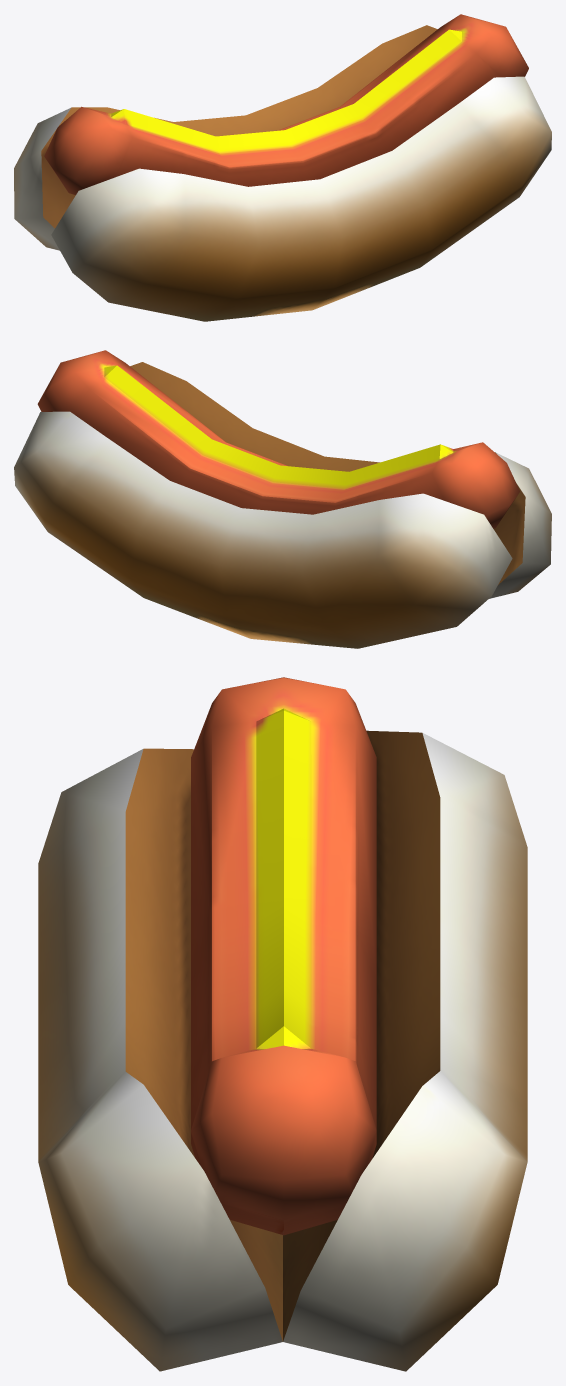
The model's file is hotdog.fbx.
3 renders of one model, top to bottom at view 1: azimuth 30°, elevation 25°; view 2: azimuth 150°, elevation 25°; view 3: azimuth 270°, elevation 25°, orthographic. The views are drawn at different scales.
Parts seen in each view (by area): view 1: hotdog; view 2: hotdog; view 3: hotdog.
Part boxes in pixels (x1,y1,x2,y2): hotdog: [14, 14, 551, 321]; hotdog: [14, 350, 551, 648]; hotdog: [38, 677, 527, 1371].
Bounding box in the file's own units: 6.35 × 2.79 × 2.82.
